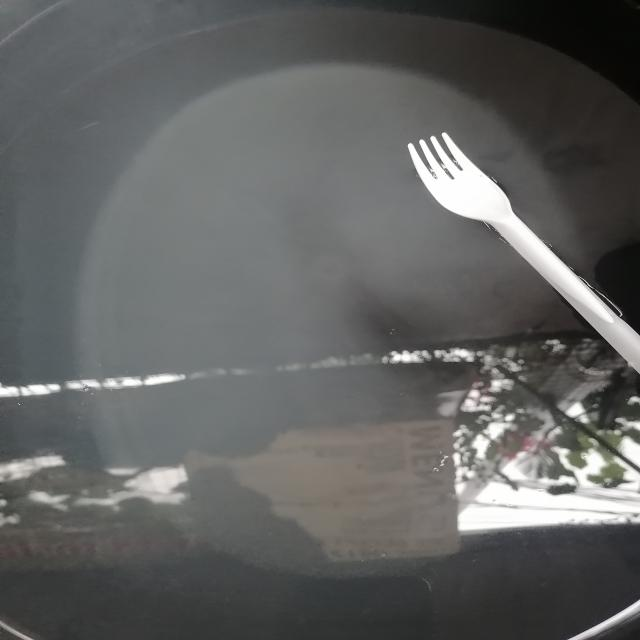Plastic Fork: (408, 132, 640, 374)
